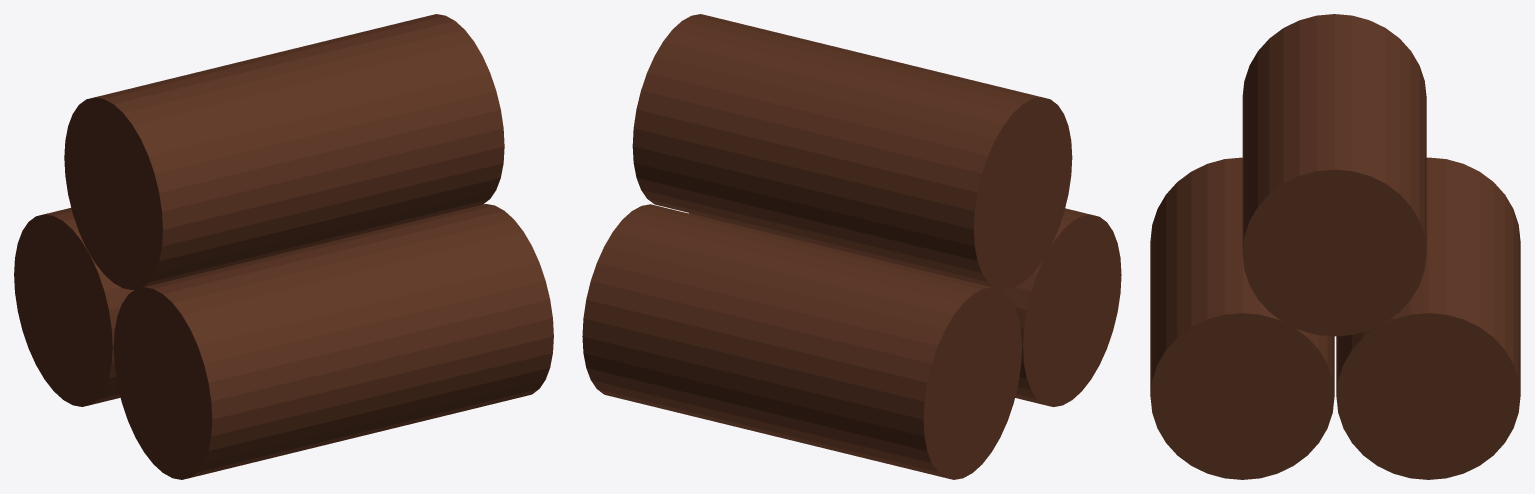
The model's file is Wood.glb.
3 views of the same model, side by side, from view 1: azimuth 30°, elevation 25°; view 2: azimuth 150°, elevation 25°; view 3: azimuth 270°, elevation 25° (orthographic). The views are drawn at different scales.
Parts seen in each view (by area): view 1: Cylinder, Cylinder.002, Cylinder.001; view 2: Cylinder.001, Cylinder.002, Cylinder; view 3: Cylinder.002, Cylinder.001, Cylinder.
Boxes of the visible parts, x1,y1,x2,y2 form: Cylinder: (113,204,553,479); Cylinder.002: (64,14,504,289); Cylinder.001: (14,208,134,406); Cylinder.001: (582,204,1021,479); Cylinder.002: (632,14,1072,289); Cylinder: (689,208,1121,406); Cylinder.002: (1242,14,1426,336); Cylinder.001: (1336,157,1520,479); Cylinder: (1150,157,1334,479).
Size of the model in its own units: 2 by 1.86 by 2.01.
